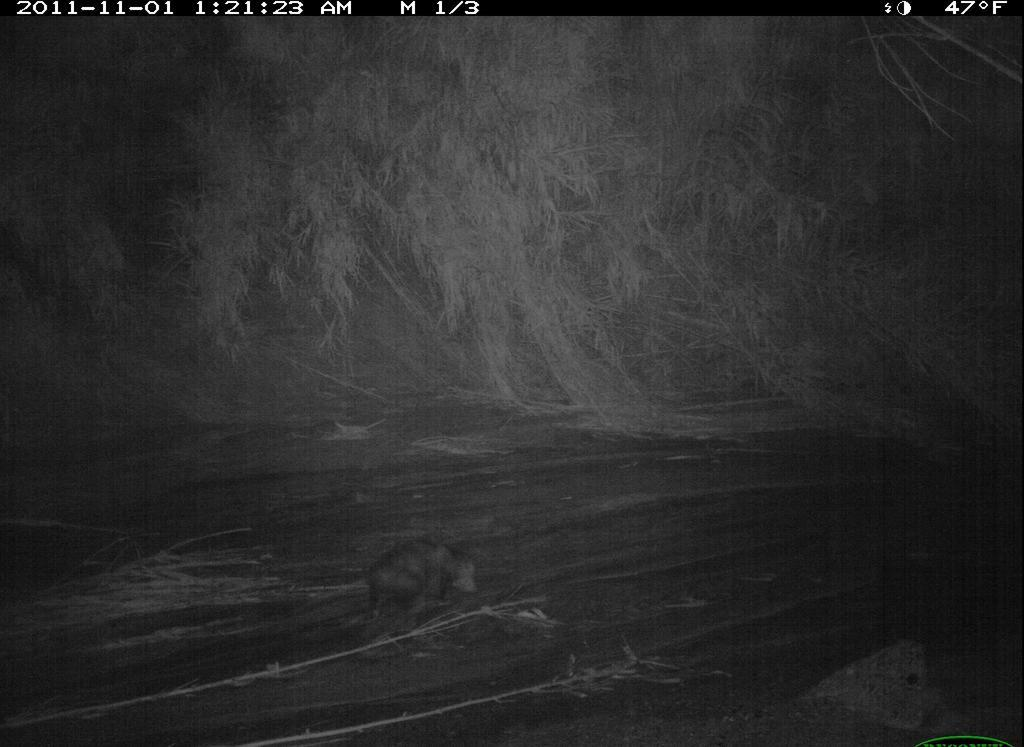opossum: (303, 524, 498, 665)
